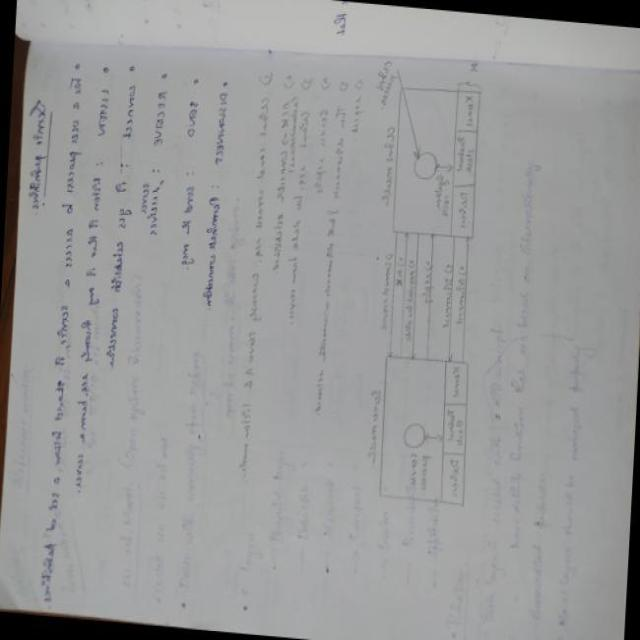Figure Detection - v3 Dataset Version2: (344, 44, 507, 554)
